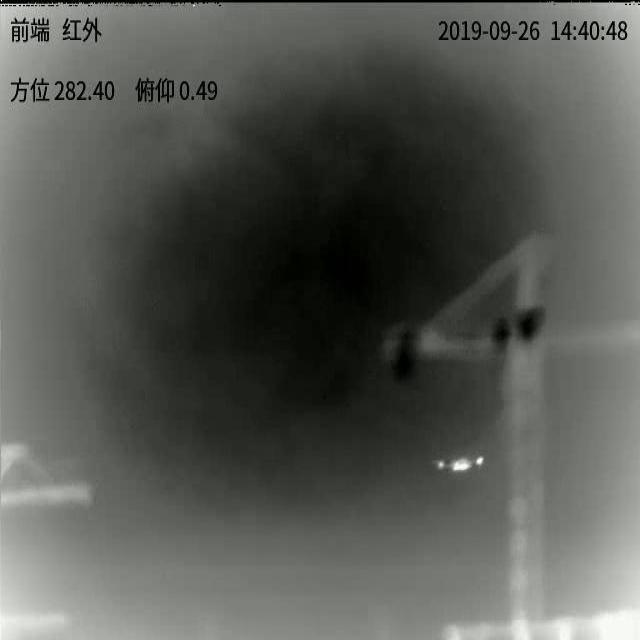drone: (437, 456, 485, 472)
